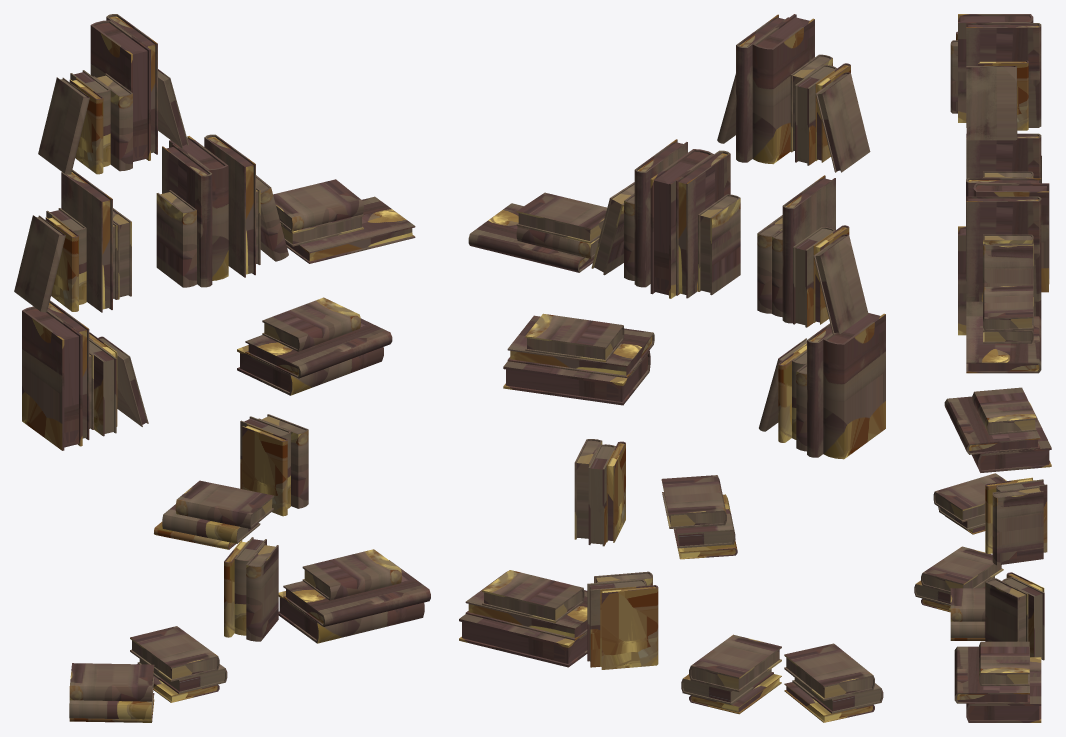
The model's file is FBX_Libros1.fbx.
3 renders of one model, left to right at view 1: azimuth 30°, elevation 25°; view 2: azimuth 150°, elevation 25°; view 3: azimuth 270°, elevation 25°, orthographic. The views are drawn at different scales.
Parts seen in each view (by area): view 1: polySurface90; view 2: polySurface90; view 3: polySurface90.
Boxes of the visible parts, left/top/right/bottom form: polySurface90: left=14, top=14, right=430, bottom=722; polySurface90: left=459, top=14, right=885, bottom=722; polySurface90: left=914, top=14, right=1051, bottom=722.
Size of the model in its own units: 95.38 by 161 by 34.1.
